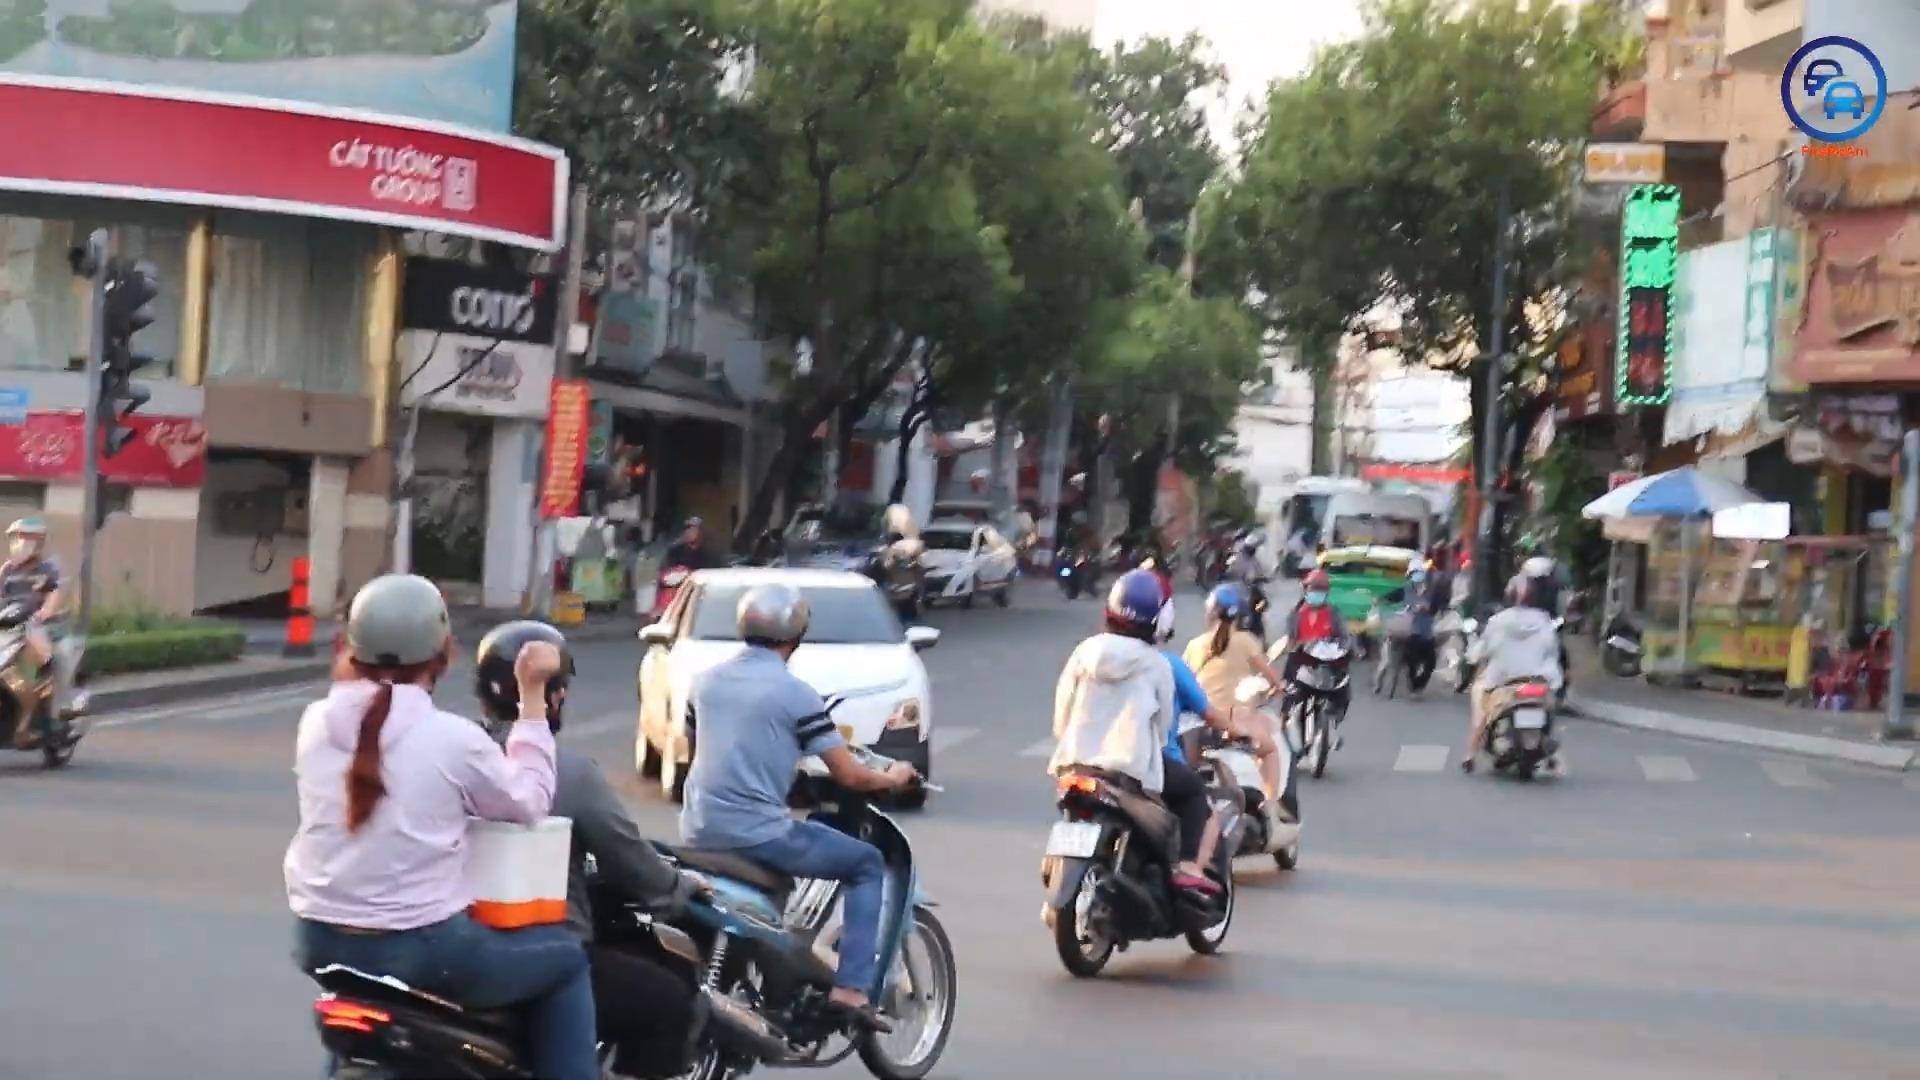bien_so: (1045, 822, 1103, 859)
